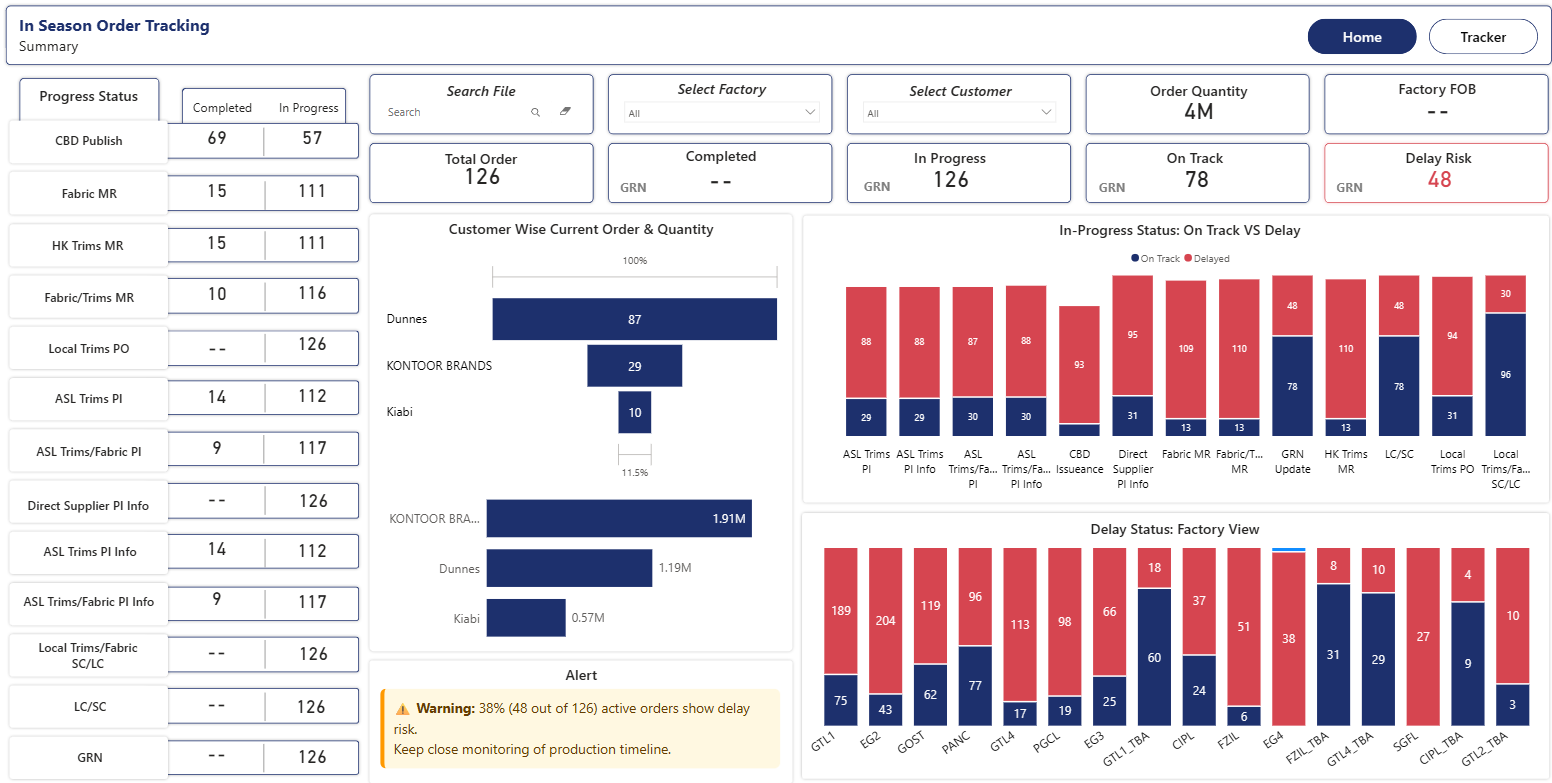

The page's visual inventory and layout, read from the dashboard file:
{"tool":"powerbi","page":{"name":"Summary","canvas":[2048,1035],"ordinal":0},"visuals":[{"type":"shape","box":[1425.3,93.8,302,86.8],"z":0,"group":"g2"},{"type":"group","id":"g1","title":"Group 4","box":[483.3,184.2,1558,87.9],"z":0},{"type":"shape","box":[1425.3,184.2,302,86.8],"z":0,"group":"g1"},{"type":"shape","box":[9.3,290.1,216.3,63.6],"z":0,"group":"g3"},{"type":"group","id":"g2","title":"Group 4","box":[483.3,93.8,1558,86.9],"z":1000},{"type":"shape","box":[483.3,93.8,302.4,86.9],"z":1000,"group":"g2"},{"type":"shape","box":[483.3,184.2,302.4,86.9],"z":1000,"group":"g1"},{"type":"shape","box":[9.3,357.4,216.3,63.6],"z":1000,"group":"g3"},{"type":"shape","box":[1738.9,93.8,302.4,86.9],"z":2000,"group":"g2"},{"type":"shape","box":[235.4,111.4,223.5,68],"z":2000,"group":"g4"},{"type":"shape","box":[1738.9,184.2,302.4,86.9],"z":2000,"group":"g1"},{"type":"shape","box":[9.3,424.7,216.3,63.6],"z":2000,"group":"g3"},{"type":"shape","box":[1051.2,669.8,989.8,357.2],"z":2000},{"type":"shape","box":[5.1,3.4,2039.6,86.2],"z":3000},{"type":"shape","box":[1111.3,93.8,302.4,86.9],"z":3000,"group":"g2"},{"type":"shape","box":[1111.3,184.2,302.4,86.9],"z":3000,"group":"g1"},{"type":"shape","box":[9.3,492.1,216.3,63.6],"z":3000,"group":"g3"},{"type":"shape","box":[797.3,93.8,302.4,86.9],"z":4000,"group":"g2"},{"type":"shape","box":[797.3,184.2,302.4,86.9],"z":4000,"group":"g1"},{"type":"shape","box":[483.7,277.2,563.7,582.3],"z":4000},{"type":"shape","box":[186.5,564.2,289.8,53.1],"z":4000,"group":"g4"},{"type":"shape","box":[9.3,761.4,216.3,63.6],"z":4000,"group":"g3"},{"type":"shape","box":[9.3,559.4,216.3,63.6],"z":5000,"group":"g3"},{"type":"shape","box":[186.5,630.6,289.8,54.7],"z":5000,"group":"g4"},{"type":"shape","box":[483.7,863.3,563.7,169.3],"z":5000},{"type":"textbox","box":[20.9,14,282.6,68],"z":6000},{"type":"shape","box":[186.5,698.6,289.8,53.1],"z":6000,"group":"g4"},{"type":"shape","box":[9.3,828.7,216.3,63.6],"z":6000,"group":"g3"},{"type":"textbox","box":[1465,101.4,223,42.2],"z":7000},{"type":"shape","box":[9.3,626.7,216.3,63.6],"z":7000,"group":"g3"},{"type":"shape","box":[186.5,766.6,289.8,53.1],"z":7000,"group":"g4"},{"type":"textbox","box":[1352.6,677.2,387,42.8],"z":8000},{"type":"shape","box":[186.5,833,289.8,54.7],"z":8000,"group":"g4"},{"type":"shape","box":[9.3,896,216.3,63.6],"z":8000,"group":"g3"},{"type":"shape","box":[9.3,694,216.3,63.6],"z":9000,"group":"g3"},{"type":"textbox","box":[677.2,868.8,176.7,44.7],"z":9000},{"type":"shape","box":[186.5,901,289.8,54.7],"z":9000,"group":"g4"},{"type":"shape","box":[1053,279.1,987.9,385.1],"z":10000},{"type":"shape","box":[9.3,963.4,216.3,63.6],"z":10000,"group":"g3"},{"type":"shape","box":[186.5,969,289.8,53.1],"z":10000,"group":"g4"},{"type":"cardVisual","fields":{"Data":["Others_Measures_Table.Total_Orders"]},"box":[571.2,202.8,126.5,54],"z":11000},{"type":"shape","box":[9.4,222,216.1,64.3],"z":11000,"group":"g3"},{"type":"shape","box":[191.7,295.5,284.6,53.1],"z":11000,"group":"g4"},{"type":"shape","box":[9.4,154,216.1,64.3],"z":12000,"group":"g3"},{"type":"cardVisual","fields":{"Data":["Completed_Measures_Table.Total_GRN_Completed"]},"box":[883.7,202.8,130.2,67],"z":12000},{"type":"shape","box":[191.7,361.9,284.6,54.7],"z":12000,"group":"g4"},{"type":"cardVisual","fields":{"Data":["In_Progress_Measures_Table.Total_GRN_In_Progress"]},"box":[1187,202.8,126.5,63.3],"z":13000},{"type":"shape","box":[191.7,429.9,284.6,54.7],"z":13000,"group":"g4"},{"type":"cardVisual","fields":{"Data":["Others_Measures_Table.Total_On_Track"]},"box":[1521.9,202.8,106,63.3],"z":14000},{"type":"shape","box":[186.5,496.2,289.8,53.1],"z":14000,"group":"g4"},{"type":"cardVisual","fields":{"Data":["Others_Measures_Table.Total_Delayed"]},"box":[1847.4,202.8,91.2,63.3],"z":15000},{"type":"shape","box":[191.7,227.5,284.6,54.7],"z":15000,"group":"g4"},{"type":"shape","box":[191.7,157.8,284.6,54.7],"z":16000,"group":"g4"},{"type":"hundredPercentStackedColumnChart","fields":{"Category":["OnTrack/Delay_Table.Factory"],"Y":["CountNonNull(OnTrack/Delay_Table.File Number)"],"Series":["OnTrack/Delay_Table.OnTrck/Delay"]},"box":[1056.7,707,984.2,327.4],"z":16000},{"type":"shape","box":[21.6,98.6,191.7,82],"z":17000,"group":"g4"},{"type":"columnChart","fields":{"Category":["OnTrack/Delay_Table.Stages"],"Y":["CountNonNull(OnTrack/Delay_Table.OnTrck/Delay)"],"Series":["OnTrack/Delay_Table.OnTrck/Delay"]},"box":[1069.8,318.1,971.2,334.9],"z":17000},{"type":"group","id":"g3","title":"Group 1","box":[9.3,154,216.3,872.9],"z":18000,"group":"g4"},{"type":"textbox","box":[1345.1,284.7,413,42.8],"z":18000},{"type":"htmlContent443BE3AD55E043BF878BED274D3A6855","fields":{"content":["OnTrack/Delay_Table.Smart_Alert"]},"box":[496.7,900.5,535.8,134],"z":19000},{"type":"cardVisual","fields":{"Data":["Sum(Dunnes_Tracker.Order Qty)"]},"box":[1514,113.2,125,62.5],"z":20000},{"type":"cardVisual","fields":{"Data":["Sum(Dunnes_Tracker.Factory FOB)"]},"box":[1797.9,108.1,184.2,69.3],"z":21000},{"type":"slicer","fields":{"Values":["OnTrack/Delay_Table.Customer"]},"box":[1125.4,123.4,273.7,50.7],"z":22000},{"type":"textbox","box":[1160.9,101.4,204.5,43.9],"z":23000},{"type":"textbox","box":[18,108.6,199.1,44.7],"z":23000,"group":"g4"},{"type":"slicer","fields":{"Values":["OnTrack/Delay_Table.Factory"]},"box":[811.1,123.4,277.1,50.7],"z":24000},{"type":"textbox","box":[16.3,168.4,203.4,37.4],"z":24000,"group":"g4"},{"type":"textbox","box":[848.3,98,204.5,43.9],"z":25000},{"type":"textbox","box":[15.2,238.2,204.4,33.4],"z":25000,"group":"g4"},{"type":"textFilter25A4896A83E0487089E2B90C9AE57C8A","fields":{"field":["Complete/InProgress_Table.File Number"]},"box":[496.8,123.4,272.1,45.6],"z":26000},{"type":"textbox","box":[16.3,306,204.4,32.4],"z":26000,"group":"g4"},{"type":"textbox","box":[532.3,101.4,202.8,43.9],"z":27000},{"type":"textbox","box":[15.2,373.8,204.4,31.4],"z":27000,"group":"g4"},{"type":"funnel","fields":{"Category":["Dunnes_Tracker.Customer"],"Y":["Others_Measures_Table.Total_Orders"]},"box":[504.2,323.7,528.4,314.4],"z":28000},{"type":"textbox","box":[15.2,441.6,203.4,31.4],"z":28000,"group":"g4"},{"type":"textbox","box":[558.1,282.8,413,44.7],"z":29000},{"type":"textbox","box":[16.3,508.4,203.4,32.4],"z":29000,"group":"g4"},{"type":"actionButton","box":[1879.1,24.2,143.3,46.5],"z":30000},{"type":"textbox","box":[9.9,648,215.1,31.4],"z":30000,"group":"g4"},{"type":"textbox","box":[1752.6,230.7,61.4,31.6],"z":31000},{"type":"textbox","box":[15.2,577.2,203.4,36.4],"z":31000,"group":"g4"},{"type":"textbox","box":[1789.5,98,202.8,43.9],"z":32000},{"type":"textbox","box":[17.4,708.7,203.4,33.4],"z":32000,"group":"g4"},{"type":"textbox","box":[1789.8,193.5,202.8,31.6],"z":33000},{"type":"textbox","box":[15.2,774.4,203.4,38.4],"z":33000,"group":"g4"},{"type":"textbox","box":[1469.8,193.5,202.8,31.6],"z":34000},{"type":"textbox","box":[1440,230.7,61.4,31.6],"z":35000},{"type":"textbox","box":[16.2,834.2,200.9,57.7],"z":35000,"group":"g4"},{"type":"textbox","box":[1147.9,193.5,202.8,31.6],"z":36000},{"type":"textbox","box":[17.2,911.5,203.6,33],"z":36000,"group":"g4"},{"type":"textbox","box":[1131.2,228.8,61.4,31.6],"z":37000},{"type":"textbox","box":[17.2,979,203.6,33],"z":37000,"group":"g4"},{"type":"textbox","box":[848.4,191.6,202.8,31.6],"z":38000},{"type":"textbox","box":[811.2,230.7,61.4,31.6],"z":39000},{"type":"textbox","box":[532.1,195.3,202.8,31.6],"z":40000},{"type":"group","id":"g4","title":"Group 2","box":[9.3,98.6,467,928.4],"z":41000},{"type":"textbox","box":[243.9,125.5,98.2,35.2],"z":41000,"group":"g4"},{"type":"textbox","box":[350.4,124.6,111.2,32.6],"z":42000,"group":"g4"},{"type":"barChart","fields":{"Category":["Dunnes_Tracker.Customer"],"Y":["Sum(Dunnes_Tracker.Order Qty)"]},"box":[496.7,617.7,528.4,253],"z":42000},{"type":"actionButton","box":[1719.1,24.2,143.3,46.5],"z":43000},{"type":"shape","box":[328.6,167.1,38.9,37.9],"z":43000,"group":"g4"},{"type":"shape","box":[329.5,237.5,38.9,37.9],"z":44000,"group":"g4"},{"type":"shape","box":[329.5,303.6,38.9,37.9],"z":45000,"group":"g4"},{"type":"shape","box":[329.5,370.5,38.9,37.9],"z":46000,"group":"g4"},{"type":"shape","box":[329.5,438.3,38.9,37.9],"z":47000,"group":"g4"},{"type":"shape","box":[329.5,504.3,38.9,37.9],"z":48000,"group":"g4"},{"type":"shape","box":[328.6,572.1,38.9,37.9],"z":49000,"group":"g4"},{"type":"shape","box":[329.5,639.1,38.9,37.9],"z":50000,"group":"g4"},{"type":"shape","box":[329.5,707.7,38.9,37.9],"z":51000,"group":"g4"},{"type":"shape","box":[329.5,774.7,38.9,37.9],"z":52000,"group":"g4"},{"type":"shape","box":[329.5,841.6,38.9,37.9],"z":53000,"group":"g4"},{"type":"shape","box":[329.5,909.4,38.9,37.9],"z":54000,"group":"g4"},{"type":"shape","box":[328.6,977.2,38.9,37.9],"z":55000,"group":"g4"},{"type":"cardVisual","fields":{"Data":["Measures_Table.Total_CBD_Completed"]},"box":[239.8,151.3,93.2,56.8],"z":56000,"group":"g4"},{"type":"cardVisual","fields":{"Data":["Measures_Table.Total_Fabric_MR_Completed"]},"box":[240.9,220.6,90.9,56.8],"z":57000,"group":"g4"},{"type":"cardVisual","fields":{"Data":["Measures_Table.Total_HK_Trims_MR_Completed"]},"box":[241.5,290,89.8,54.5],"z":58000,"group":"g4"},{"type":"cardVisual","fields":{"Data":["Measures_Table.Total_Fabric/Trims_Completed"]},"box":[240.9,357,90.9,55.7],"z":59000,"group":"g4"},{"type":"cardVisual","fields":{"Data":["Measures_Table.Total_Local_Trims_PO_Completed"]},"box":[242,425.2,88.6,59.1],"z":60000,"group":"g4"},{"type":"cardVisual","fields":{"Data":["Measures_Table.Total_ASL_Trims_PI_Completed"]},"box":[241.5,491.1,89.8,56.8],"z":61000,"group":"g4"},{"type":"cardVisual","fields":{"Data":["Measures_Table.Total_ASL_Trims/Fabric_PI_Completed"]},"box":[240.9,558.1,90.9,55.7],"z":62000,"group":"g4"},{"type":"cardVisual","fields":{"Data":["Measures_Table.Total_Direct_Supplier_PI_Info_Completed"]},"box":[240.9,625.2,90.9,55.7],"z":63000,"group":"g4"},{"type":"cardVisual","fields":{"Data":["Measures_Table.Total_ASL_Trims_PI_Info_Completed"]},"box":[241.5,691.1,89.8,54.5],"z":64000,"group":"g4"},{"type":"cardVisual","fields":{"Data":["Measures_Table.Total_ASL_Trims/Fabric_PI_Info_Completed"]},"box":[241.5,759.3,89.8,52.3],"z":65000,"group":"g4"},{"type":"cardVisual","fields":{"Data":["Measures_Table.Total_Local_Trims/Fabric_SC/LC_Completed"]},"box":[241.5,828.6,89.8,53.4],"z":66000,"group":"g4"},{"type":"cardVisual","fields":{"Data":["Measures_Table.Total_LC/SC_Completed"]},"box":[241.5,895.6,89.8,56.8],"z":67000,"group":"g4"},{"type":"cardVisual","fields":{"Data":["Measures_Table.Total_GRN_Completed"]},"box":[241.5,960.4,89.8,56.8],"z":68000,"group":"g4"},{"type":"cardVisual","fields":{"Data":["In_Progress_Measures_Table.Total_CBD_Publish_In_Progress"]},"box":[365.6,151.8,90.5,56.8],"z":69000,"group":"g4"},{"type":"cardVisual","fields":{"Data":["In_Progress_Measures_Table.Total_Fabric_MR_In_Progress"]},"box":[365.6,218.1,90.5,59.5],"z":70000,"group":"g4"},{"type":"cardVisual","fields":{"Data":["In_Progress_Measures_Table.Total_HK_Trims_MR_In_Progress"]},"box":[365.6,288.3,90.5,55.4],"z":71000,"group":"g4"},{"type":"cardVisual","fields":{"Data":["In_Progress_Measures_Table.Total_Fabric/Trims_MR_In_Progress"]},"box":[365.6,354.5,90.5,56.8],"z":72000,"group":"g4"},{"type":"cardVisual","fields":{"Data":["In_Progress_Measures_Table.Total_Local_Trims_PO_In_Progress"]},"box":[365.6,422.1,90.5,56.8],"z":73000,"group":"g4"},{"type":"cardVisual","fields":{"Data":["In_Progress_Measures_Table.Total_ASL_Trims_PI_In_Progress"]},"box":[365.6,489.7,90.5,58.1],"z":74000,"group":"g4"},{"type":"cardVisual","fields":{"Data":["In_Progress_Measures_Table.Total_ASL_Trims/Fabric_PI_In_Progress"]},"box":[365.6,557.2,90.5,59.5],"z":75000,"group":"g4"},{"type":"cardVisual","fields":{"Data":["In_Progress_Measures_Table.Total_Dierct_Supplier_PI_Info_In_Progress"]},"box":[367,626.2,90.5,60.8],"z":76000,"group":"g4"},{"type":"cardVisual","fields":{"Data":["In_Progress_Measures_Table.Total_ASL_Trims_PI_Info_In_Progress"]},"box":[365.6,691,90.5,60.8],"z":77000,"group":"g4"},{"type":"cardVisual","fields":{"Data":["In_Progress_Measures_Table.Total_ASL_Trims/Fabric_PI_Info_In_Progress"]},"box":[365.6,758.6,90.5,60.8],"z":78000,"group":"g4"},{"type":"cardVisual","fields":{"Data":["In_Progress_Measures_Table.Total_Local_Trims/Fabric_SC/LC_In_Progress"]},"box":[367,826.2,90.5,62.2],"z":79000,"group":"g4"},{"type":"cardVisual","fields":{"Data":["In_Progress_Measures_Table.Total_LC/SC_In_Progress"]},"box":[364.3,895.1,90.5,63.5],"z":80000,"group":"g4"},{"type":"cardVisual","fields":{"Data":["In_Progress_Measures_Table.Total_GRN_In_Progress"]},"box":[365.7,961.7,90.8,62.7],"z":81000,"group":"g4"}]}

Visuals, with their boxes in screenshot pixels (x1, y1, x2, y2), scaled from the page's 2048x1035 canvas onto the 1552x783 screenshot:
shape: Rect(1080, 71, 1309, 137)
"Group 4" group: Rect(366, 139, 1547, 206)
shape: Rect(1080, 139, 1309, 205)
shape: Rect(7, 219, 171, 268)
"Group 4" group: Rect(366, 71, 1547, 137)
shape: Rect(366, 71, 595, 137)
shape: Rect(366, 139, 595, 205)
shape: Rect(7, 270, 171, 318)
shape: Rect(1318, 71, 1547, 137)
shape: Rect(178, 84, 348, 136)
shape: Rect(1318, 139, 1547, 205)
shape: Rect(7, 321, 171, 369)
shape: Rect(797, 507, 1547, 777)
shape: Rect(4, 3, 1549, 68)
shape: Rect(842, 71, 1071, 137)
shape: Rect(842, 139, 1071, 205)
shape: Rect(7, 372, 171, 420)
shape: Rect(604, 71, 833, 137)
shape: Rect(604, 139, 833, 205)
shape: Rect(367, 210, 794, 650)
shape: Rect(141, 427, 361, 467)
shape: Rect(7, 576, 171, 624)
shape: Rect(7, 423, 171, 471)
shape: Rect(141, 477, 361, 518)
shape: Rect(367, 653, 794, 781)
textbox: Rect(16, 11, 230, 62)
shape: Rect(141, 529, 361, 569)
shape: Rect(7, 627, 171, 675)
textbox: Rect(1110, 77, 1279, 109)
shape: Rect(7, 474, 171, 522)
shape: Rect(141, 580, 361, 620)
textbox: Rect(1025, 512, 1318, 545)
shape: Rect(141, 630, 361, 672)
shape: Rect(7, 678, 171, 726)
shape: Rect(7, 525, 171, 573)
textbox: Rect(513, 657, 647, 691)
shape: Rect(141, 682, 361, 723)
shape: Rect(798, 211, 1547, 502)
shape: Rect(7, 729, 171, 777)
shape: Rect(141, 733, 361, 773)
cardVisual - Others_Measures_Table.Total_Orders: Rect(433, 153, 529, 194)
shape: Rect(7, 168, 171, 217)
shape: Rect(145, 224, 361, 264)
shape: Rect(7, 117, 171, 165)
cardVisual - Completed_Measures_Table.Total_GRN_Completed: Rect(670, 153, 768, 204)
shape: Rect(145, 274, 361, 315)
cardVisual - In_Progress_Measures_Table.Total_GRN_In_Progress: Rect(900, 153, 995, 201)
shape: Rect(145, 325, 361, 367)
cardVisual - Others_Measures_Table.Total_On_Track: Rect(1153, 153, 1234, 201)
shape: Rect(141, 375, 361, 416)
cardVisual - Others_Measures_Table.Total_Delayed: Rect(1400, 153, 1469, 201)
shape: Rect(145, 172, 361, 213)
shape: Rect(145, 119, 361, 161)
hundredPercentStackedColumnChart - OnTrack/Delay_Table.Factory x CountNonNull(OnTrack/Delay_Table.File Number): Rect(801, 535, 1547, 782)
shape: Rect(16, 75, 162, 137)
columnChart - OnTrack/Delay_Table.Stages x CountNonNull(OnTrack/Delay_Table.OnTrck/Delay): Rect(811, 241, 1547, 494)
"Group 1" group: Rect(7, 117, 171, 777)
textbox: Rect(1019, 215, 1332, 248)
htmlContent443BE3AD55E043BF878BED274D3A6855 - OnTrack/Delay_Table.Smart_Alert: Rect(376, 681, 782, 782)
cardVisual - Sum(Dunnes_Tracker.Order Qty): Rect(1147, 86, 1242, 133)
cardVisual - Sum(Dunnes_Tracker.Factory FOB): Rect(1362, 82, 1502, 134)
slicer - OnTrack/Delay_Table.Customer: Rect(853, 93, 1060, 132)
textbox: Rect(880, 77, 1035, 110)
textbox: Rect(14, 82, 165, 116)
slicer - OnTrack/Delay_Table.Factory: Rect(615, 93, 825, 132)
textbox: Rect(12, 127, 166, 156)
textbox: Rect(643, 74, 798, 107)
textbox: Rect(12, 180, 166, 205)
textFilter25A4896A83E0487089E2B90C9AE57C8A - Complete/InProgress_Table.File Number: Rect(376, 93, 583, 128)
textbox: Rect(12, 231, 167, 256)
textbox: Rect(403, 77, 557, 110)
textbox: Rect(12, 283, 166, 307)
funnel - Dunnes_Tracker.Customer x Others_Measures_Table.Total_Orders: Rect(382, 245, 783, 483)
textbox: Rect(12, 334, 166, 358)
textbox: Rect(423, 214, 736, 248)
textbox: Rect(12, 385, 166, 409)
actionButton: Rect(1424, 18, 1533, 53)
textbox: Rect(8, 490, 171, 514)
textbox: Rect(1328, 175, 1375, 198)
textbox: Rect(12, 437, 166, 464)
textbox: Rect(1356, 74, 1510, 107)
textbox: Rect(13, 536, 167, 561)
textbox: Rect(1356, 146, 1510, 170)
textbox: Rect(12, 586, 166, 615)
textbox: Rect(1114, 146, 1268, 170)
textbox: Rect(1091, 175, 1138, 198)
textbox: Rect(12, 631, 165, 675)
textbox: Rect(870, 146, 1024, 170)
textbox: Rect(13, 690, 167, 715)
textbox: Rect(857, 173, 904, 197)
textbox: Rect(13, 741, 167, 766)
textbox: Rect(643, 145, 797, 169)
textbox: Rect(615, 175, 661, 198)
textbox: Rect(403, 148, 557, 172)
"Group 2" group: Rect(7, 75, 361, 777)
textbox: Rect(185, 95, 259, 122)
textbox: Rect(266, 94, 350, 119)
barChart - Dunnes_Tracker.Customer x Sum(Dunnes_Tracker.Order Qty): Rect(376, 467, 777, 659)
actionButton: Rect(1303, 18, 1411, 53)
shape: Rect(249, 126, 278, 155)
shape: Rect(250, 180, 279, 208)
shape: Rect(250, 230, 279, 258)
shape: Rect(250, 280, 279, 309)
shape: Rect(250, 332, 279, 360)
shape: Rect(250, 382, 279, 410)
shape: Rect(249, 433, 278, 461)
shape: Rect(250, 483, 279, 512)
shape: Rect(250, 535, 279, 564)
shape: Rect(250, 586, 279, 615)
shape: Rect(250, 637, 279, 665)
shape: Rect(250, 688, 279, 717)
shape: Rect(249, 739, 278, 768)
cardVisual - Measures_Table.Total_CBD_Completed: Rect(182, 114, 252, 157)
cardVisual - Measures_Table.Total_Fabric_MR_Completed: Rect(183, 167, 251, 210)
cardVisual - Measures_Table.Total_HK_Trims_MR_Completed: Rect(183, 219, 251, 261)
cardVisual - Measures_Table.Total_Fabric/Trims_Completed: Rect(183, 270, 251, 312)
cardVisual - Measures_Table.Total_Local_Trims_PO_Completed: Rect(183, 322, 251, 366)
cardVisual - Measures_Table.Total_ASL_Trims_PI_Completed: Rect(183, 372, 251, 414)
cardVisual - Measures_Table.Total_ASL_Trims/Fabric_PI_Completed: Rect(183, 422, 251, 464)
cardVisual - Measures_Table.Total_Direct_Supplier_PI_Info_Completed: Rect(183, 473, 251, 515)
cardVisual - Measures_Table.Total_ASL_Trims_PI_Info_Completed: Rect(183, 523, 251, 564)
cardVisual - Measures_Table.Total_ASL_Trims/Fabric_PI_Info_Completed: Rect(183, 574, 251, 614)
cardVisual - Measures_Table.Total_Local_Trims/Fabric_SC/LC_Completed: Rect(183, 627, 251, 667)
cardVisual - Measures_Table.Total_LC/SC_Completed: Rect(183, 678, 251, 721)
cardVisual - Measures_Table.Total_GRN_Completed: Rect(183, 727, 251, 770)
cardVisual - In_Progress_Measures_Table.Total_CBD_Publish_In_Progress: Rect(277, 115, 346, 158)
cardVisual - In_Progress_Measures_Table.Total_Fabric_MR_In_Progress: Rect(277, 165, 346, 210)
cardVisual - In_Progress_Measures_Table.Total_HK_Trims_MR_In_Progress: Rect(277, 218, 346, 260)
cardVisual - In_Progress_Measures_Table.Total_Fabric/Trims_MR_In_Progress: Rect(277, 268, 346, 311)
cardVisual - In_Progress_Measures_Table.Total_Local_Trims_PO_In_Progress: Rect(277, 319, 346, 362)
cardVisual - In_Progress_Measures_Table.Total_ASL_Trims_PI_In_Progress: Rect(277, 370, 346, 414)
cardVisual - In_Progress_Measures_Table.Total_ASL_Trims/Fabric_PI_In_Progress: Rect(277, 422, 346, 467)
cardVisual - In_Progress_Measures_Table.Total_Dierct_Supplier_PI_Info_In_Progress: Rect(278, 474, 347, 520)
cardVisual - In_Progress_Measures_Table.Total_ASL_Trims_PI_Info_In_Progress: Rect(277, 523, 346, 569)
cardVisual - In_Progress_Measures_Table.Total_ASL_Trims/Fabric_PI_Info_In_Progress: Rect(277, 574, 346, 620)
cardVisual - In_Progress_Measures_Table.Total_Local_Trims/Fabric_SC/LC_In_Progress: Rect(278, 625, 347, 672)
cardVisual - In_Progress_Measures_Table.Total_LC/SC_In_Progress: Rect(276, 677, 345, 725)
cardVisual - In_Progress_Measures_Table.Total_GRN_In_Progress: Rect(277, 728, 346, 775)
